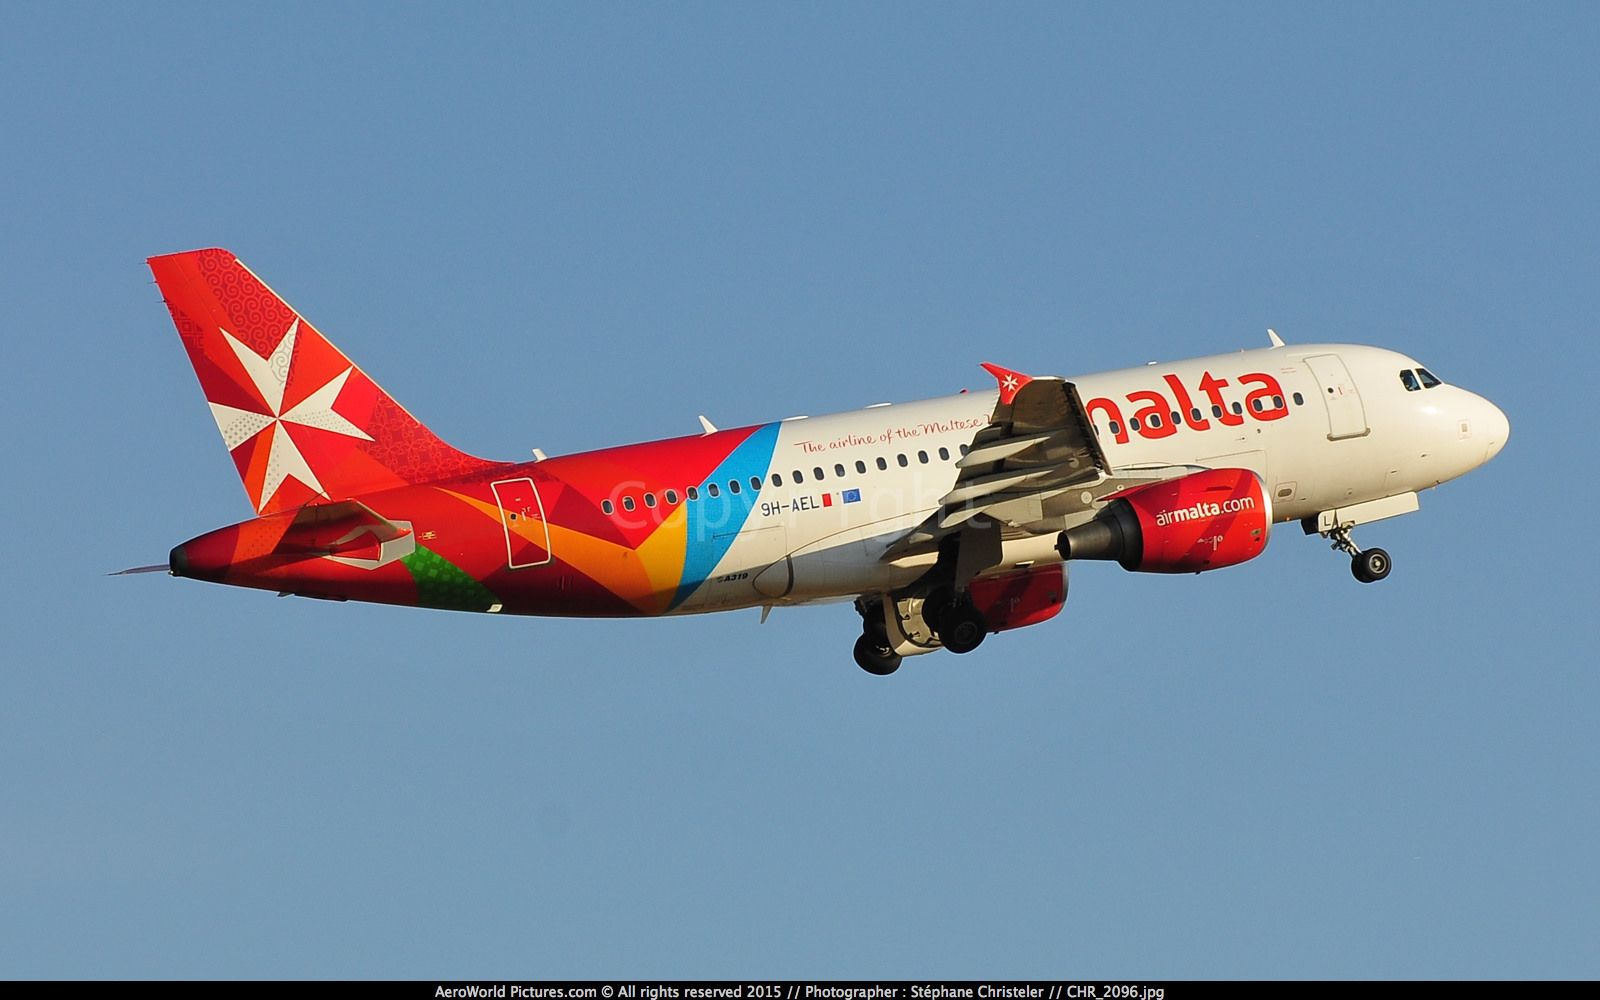Aeronef_commercial: (94, 241, 1538, 699)
